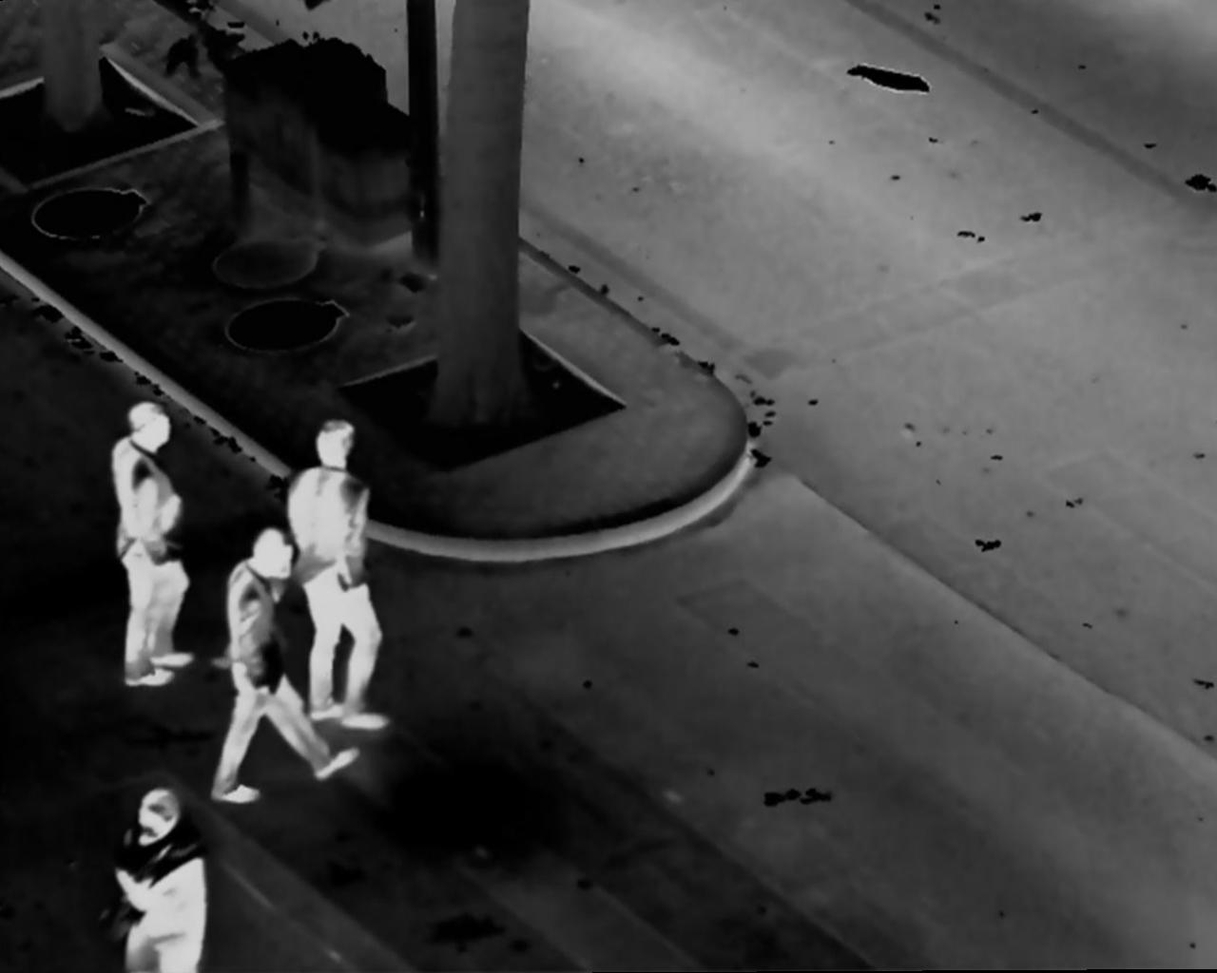person: (217, 525, 358, 802), (283, 418, 396, 735), (107, 398, 194, 696), (111, 781, 212, 973)
